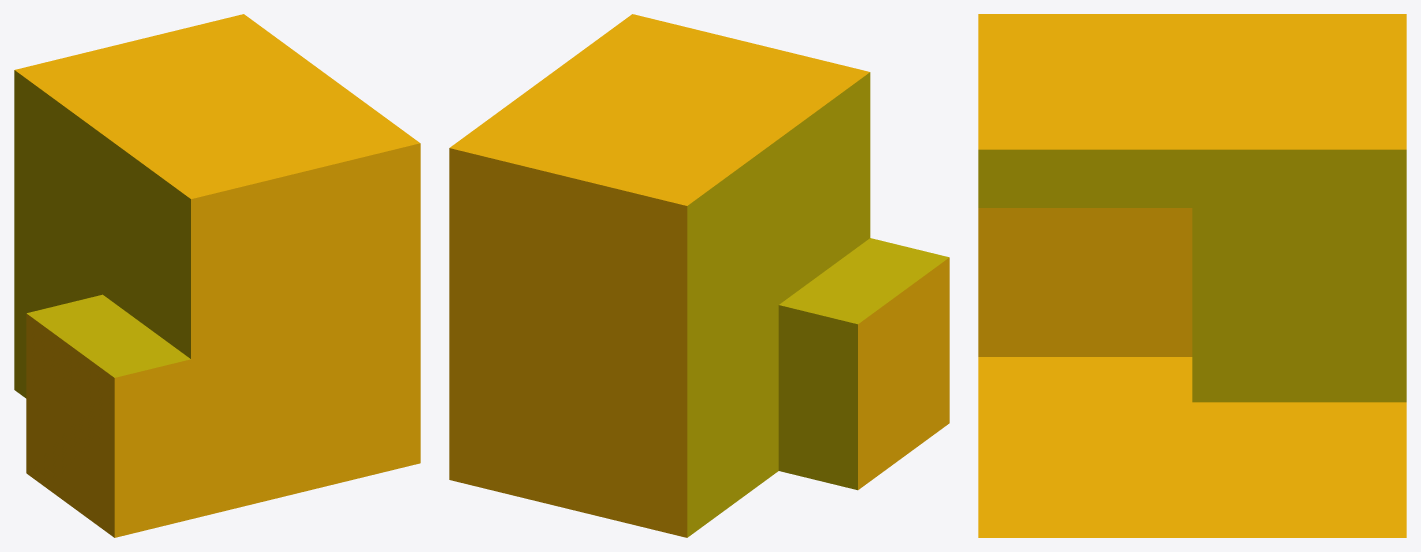
The model's file is block_slitted_corner_x.dae.
3 views of the same model, side by side, from view 1: azimuth 30°, elevation 25°; view 2: azimuth 150°, elevation 25°; view 3: azimuth 270°, elevation 25° (orthographic). The views are drawn at different scales.
Parts seen in each view (by area): view 1: Cube; view 2: Cube; view 3: Cube.
Boxes of the visible parts, bbox=[...] form: Cube: bbox=[14, 14, 420, 537]; Cube: bbox=[449, 14, 949, 537]; Cube: bbox=[978, 14, 1406, 537].
Size of the model in its own units: 0.25 by 0.25 by 0.25.
